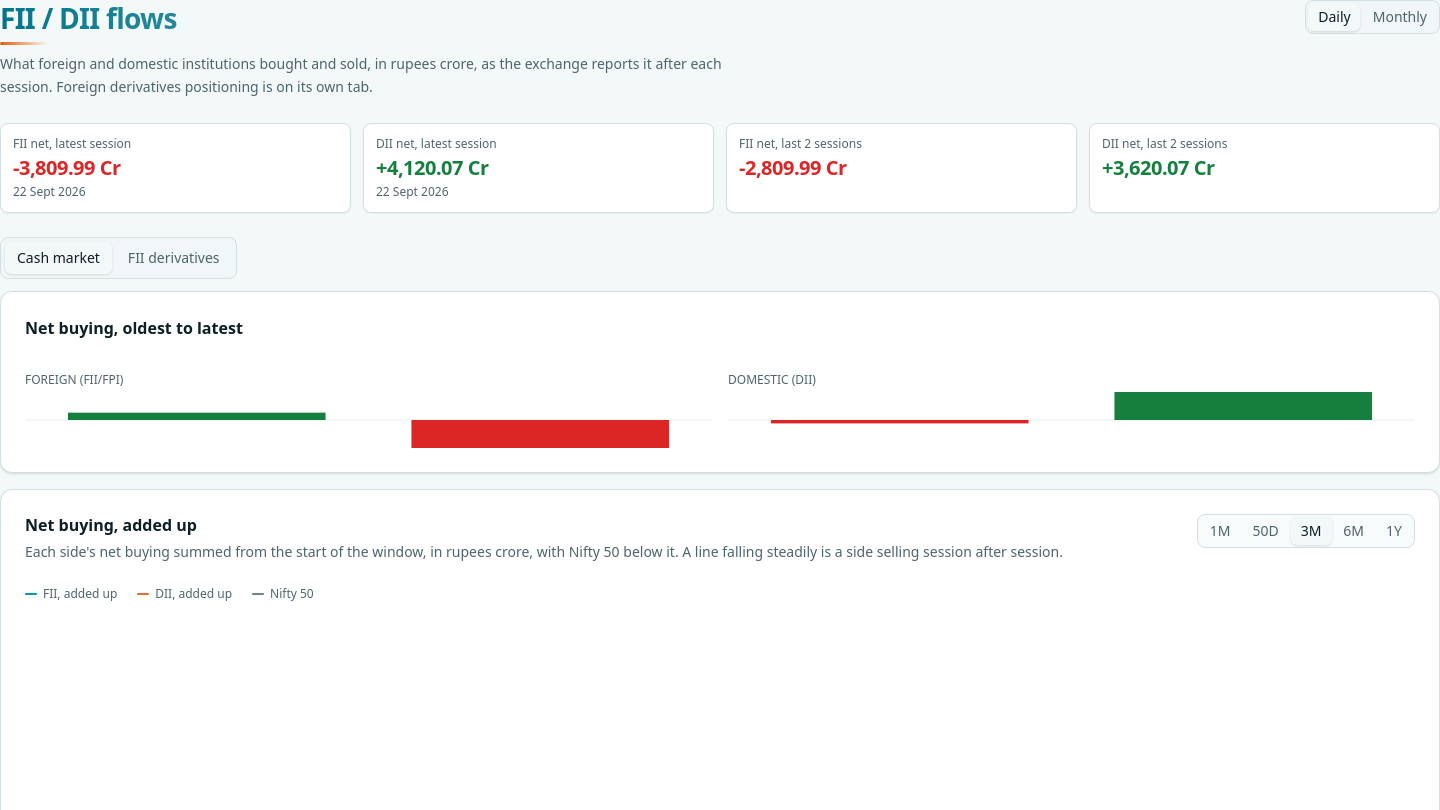
Scenario: Flows › draws the share held long against the even line
The width and height of the screenshot is (1440, 810).
Click the tab "FII derivatives" at coordinates (174, 258), box top-left (116, 242), bottom-right (232, 274)
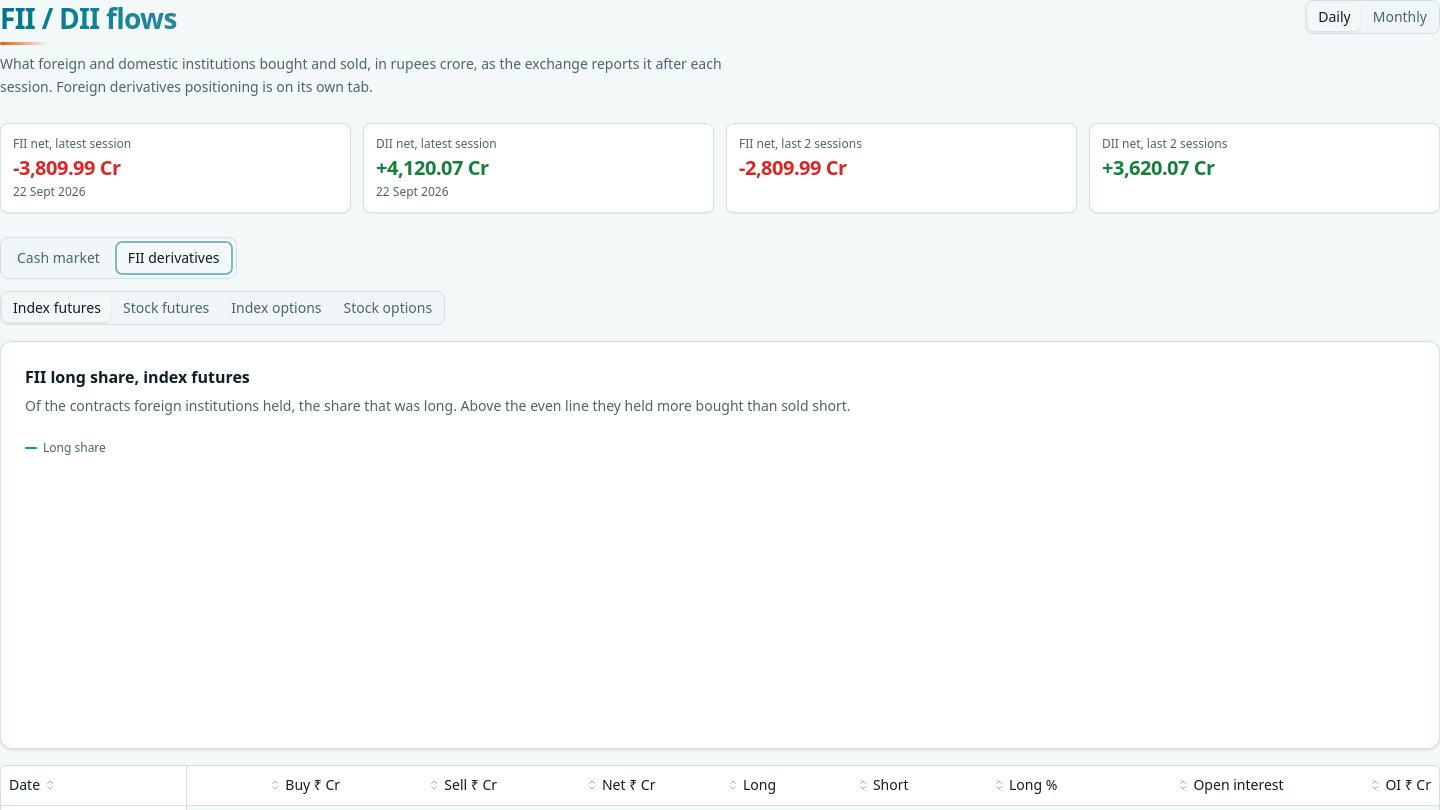
Now the heading "FII long share, index futures" is shown, box top-left (25, 366), bottom-right (250, 388)
